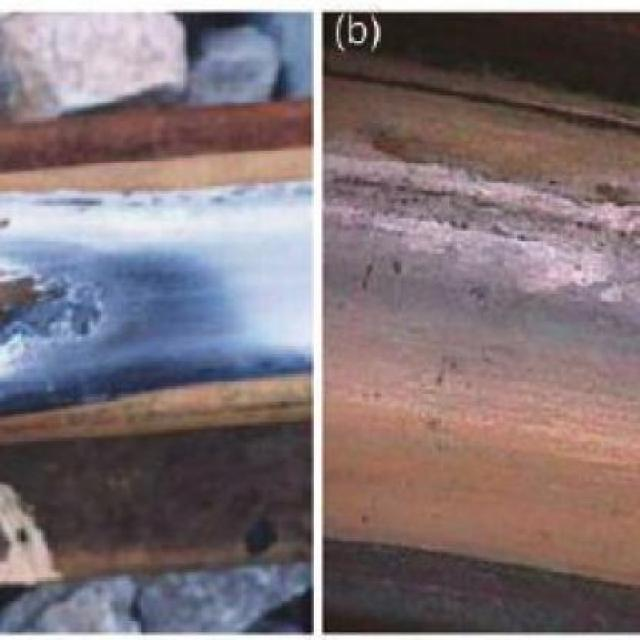defective: (0, 130, 315, 614), (330, 70, 640, 530)
